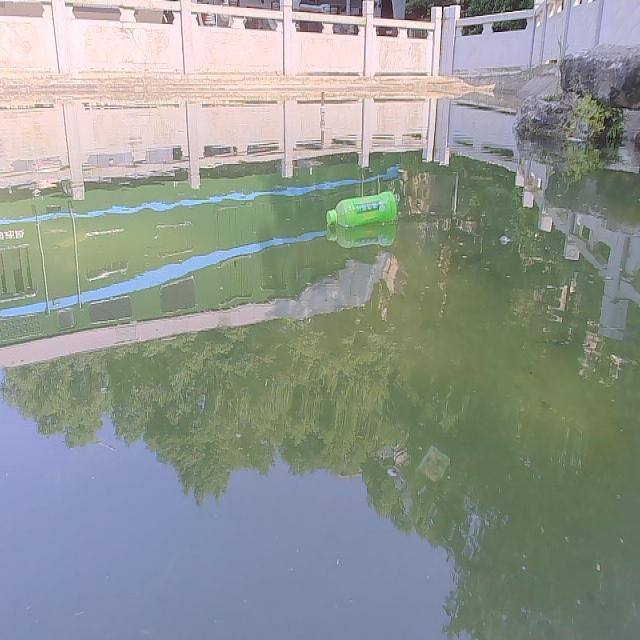bottle: (323, 190, 398, 227)
